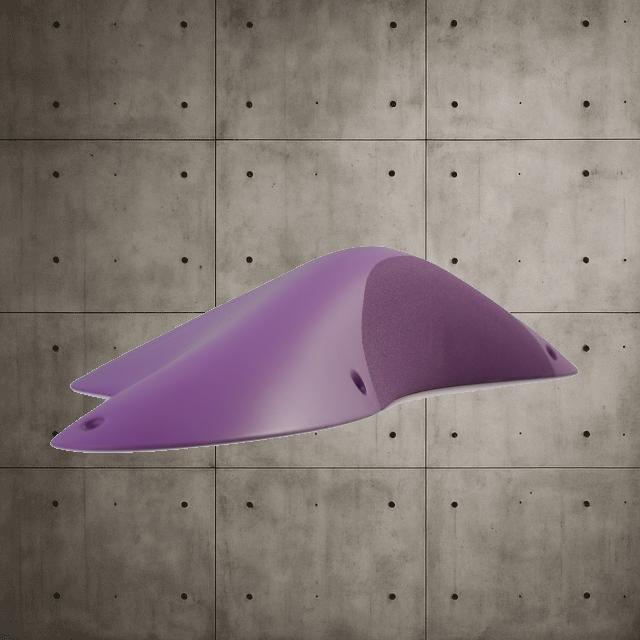Sloper: (56, 244, 580, 453)
